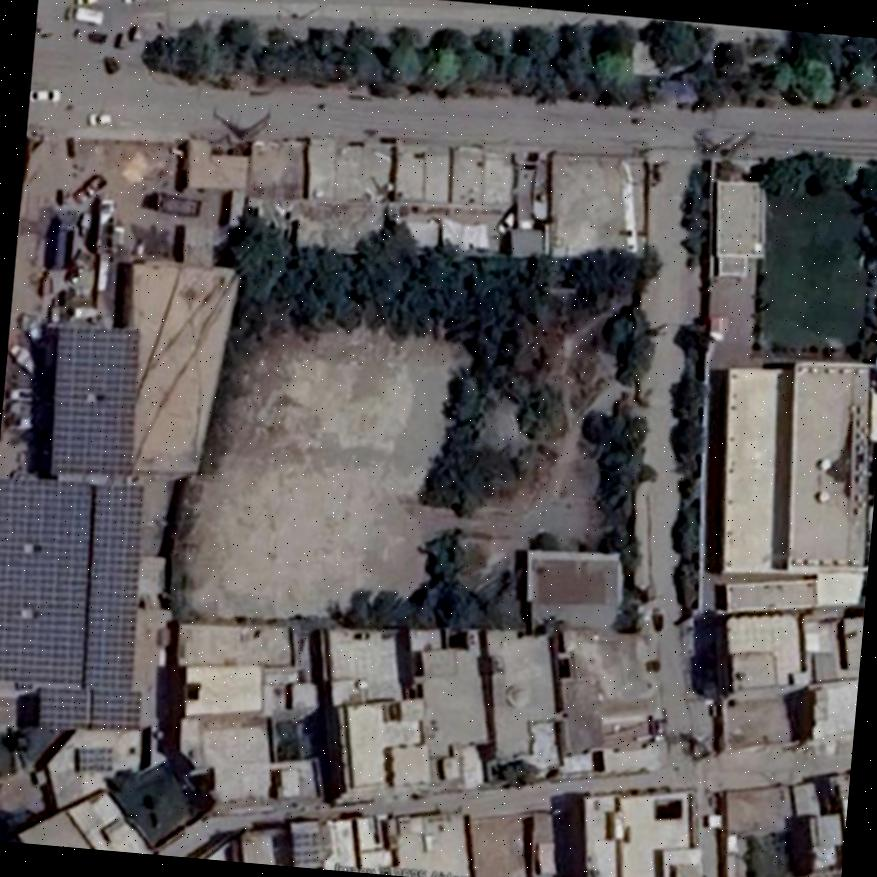Solarpanel: (0, 475, 92, 686), (48, 324, 136, 471), (85, 482, 140, 694), (37, 684, 139, 727), (76, 745, 111, 768)
